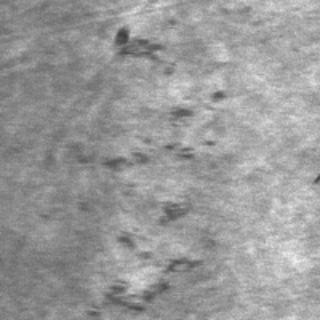rolled pit: (96, 103, 196, 317), (106, 20, 180, 80)
